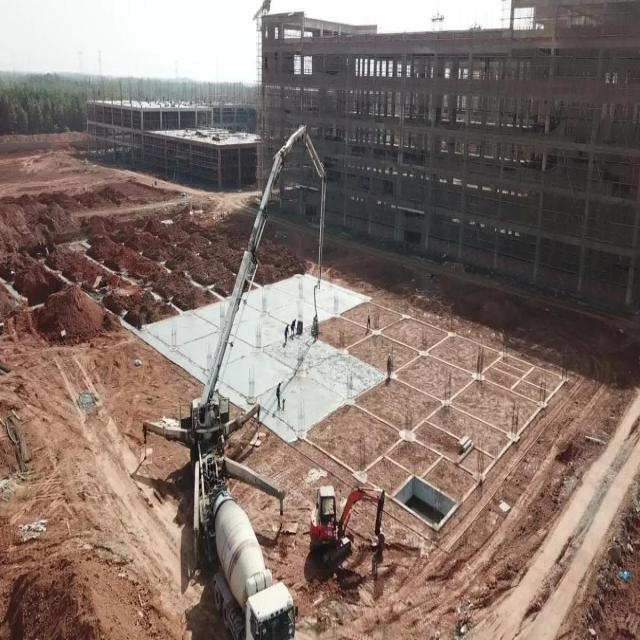excavator: (304, 478, 391, 576)
truck: (136, 120, 332, 586)
